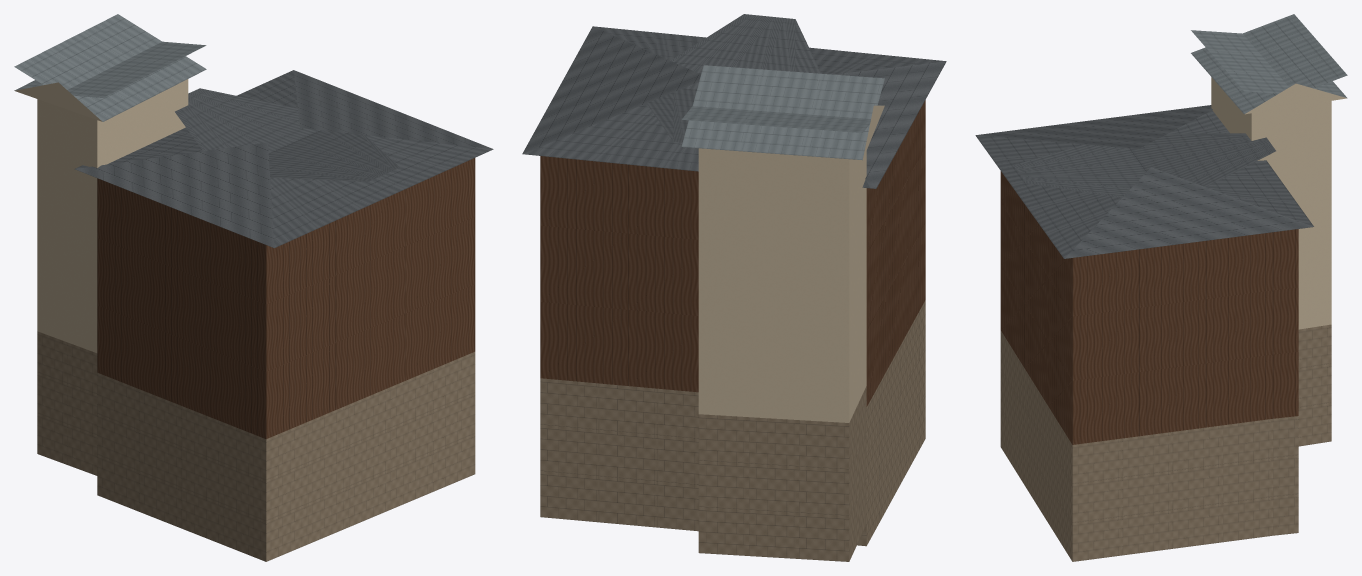
The model's file is bld_c9_17_440.gltf.
3 renders of one model, left to right at view 1: azimuth 30°, elevation 25°; view 2: azimuth 150°, elevation 25°; view 3: azimuth 270°, elevation 25°, orthographic. The views are drawn at different scales.
Parts seen in each view (by area): view 1: bld_c9_17_440; view 2: bld_c9_17_440; view 3: bld_c9_17_440.
Part boxes in pixels (box(x1,y1,x2,y2)): bld_c9_17_440: box(14, 14, 493, 561); bld_c9_17_440: box(522, 14, 946, 561); bld_c9_17_440: box(975, 14, 1347, 561).
Bounding box in the file's own units: 15.63 × 16.9 × 14.72.
Materials: 6 (6 with a texture image).
